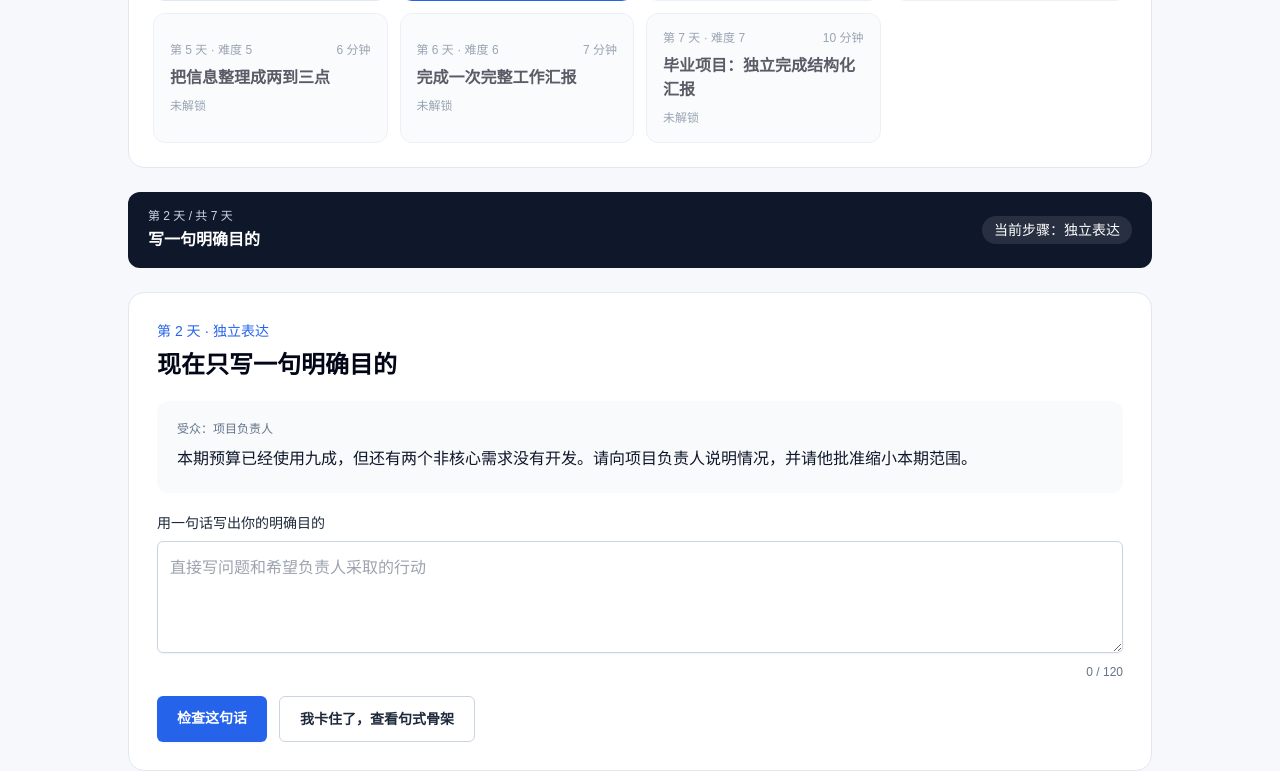
Module 16 progressive public training route › only completes Day 2 after an independently written purpose sentence
(page scrolled)
Type "本期预算已经使用九成，我申请项目负责人批准缩小本期范围，暂缓两个非核心需求。" into the text box labelled "用一句话写出你的明确目的" at [640, 597], box x1=157 y1=541 x2=1123 y2=653
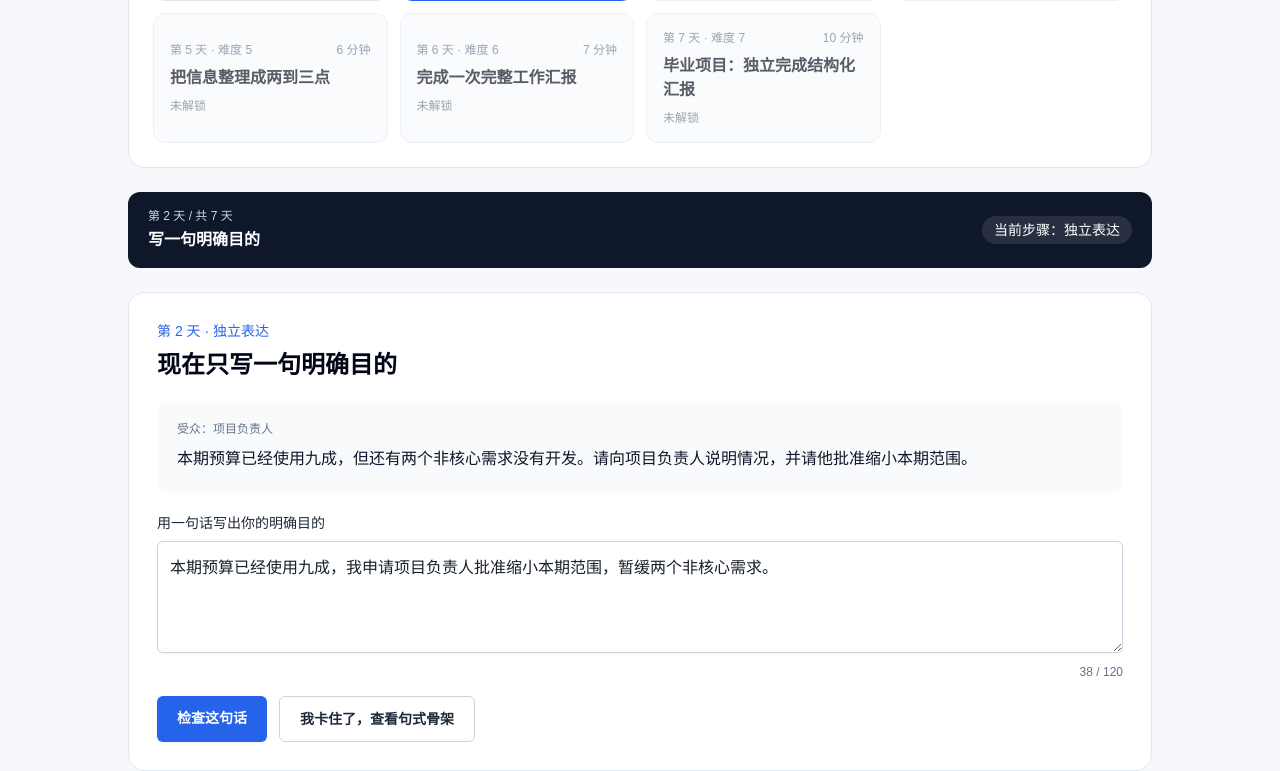
Click the button "检查这句话" at [212, 719], box x1=157 y1=696 x2=267 y2=742
(page scrolled)
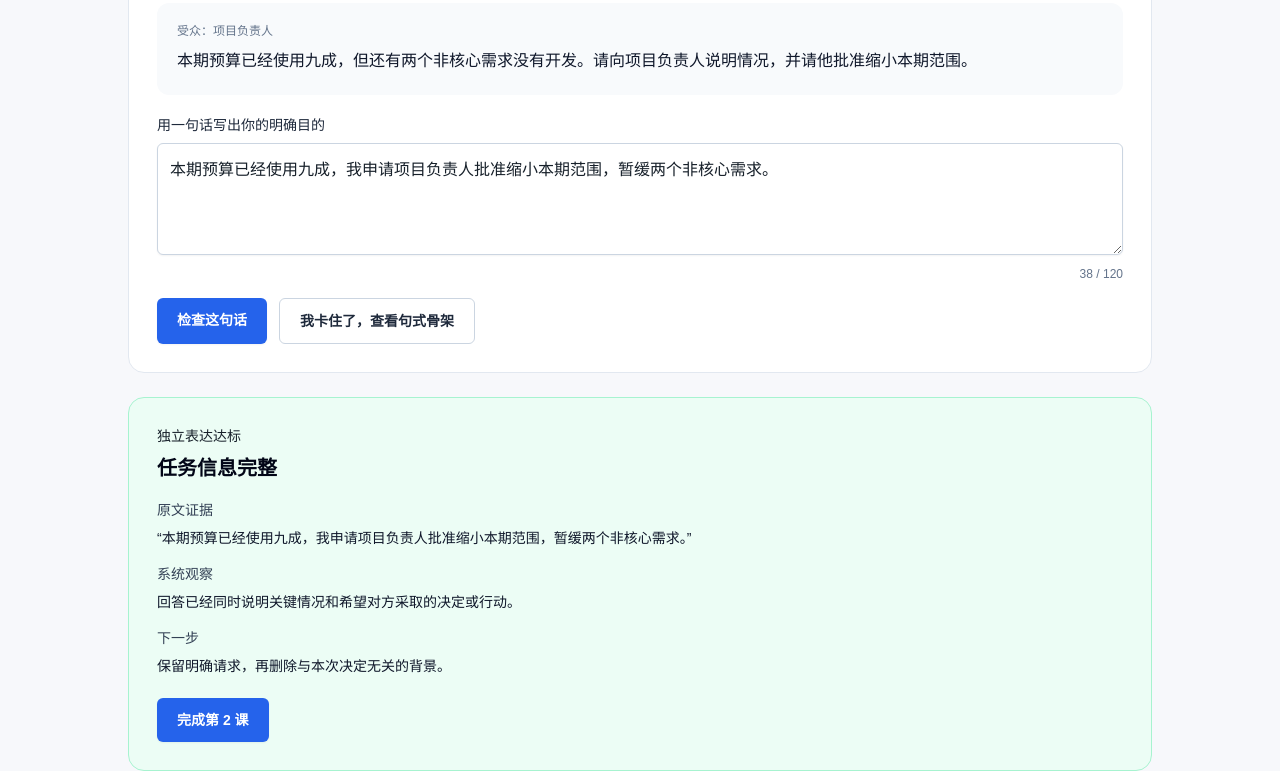
Check: the heading "任务信息完整" is shown, box x1=157 y1=457 x2=277 y2=479
Click the button "完成第 2 课" at [213, 720], box x1=157 y1=698 x2=269 y2=742
(page scrolled)
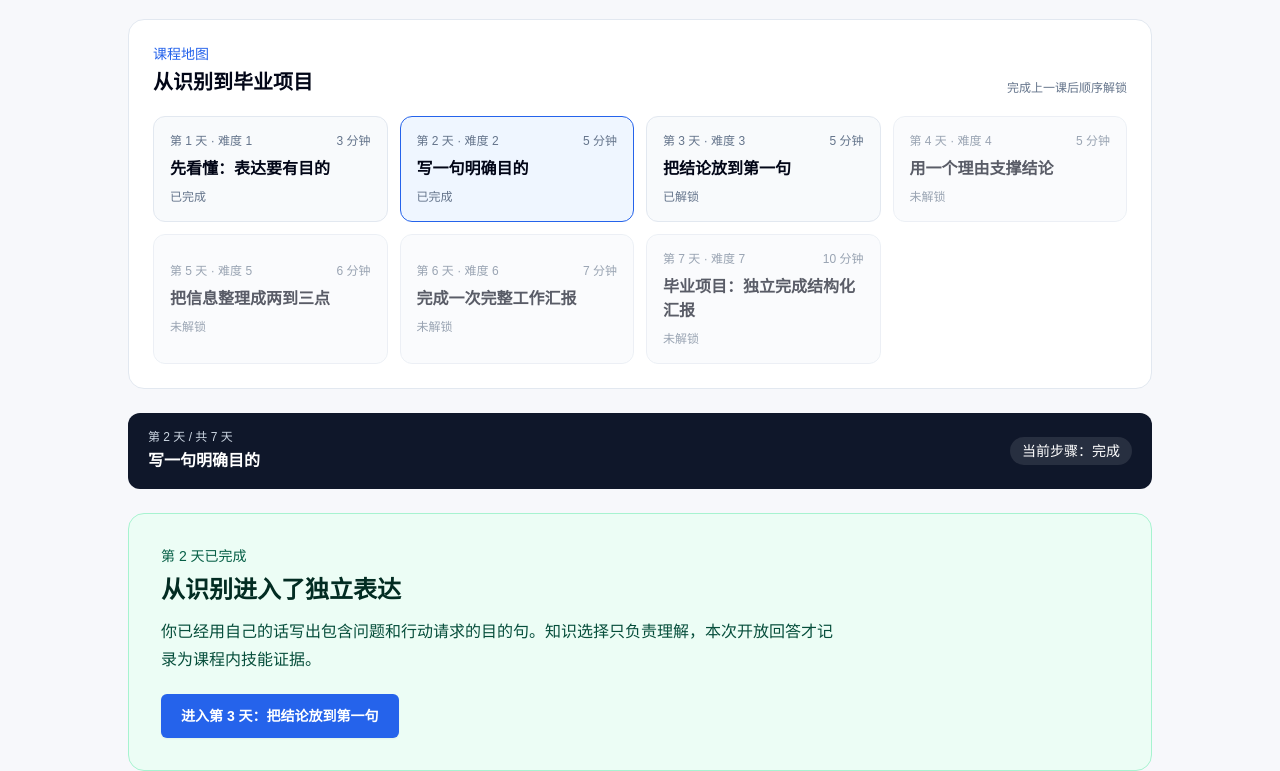
Check: the heading "从识别进入了独立表达" is shown, box x1=161 y1=576 x2=401 y2=603
